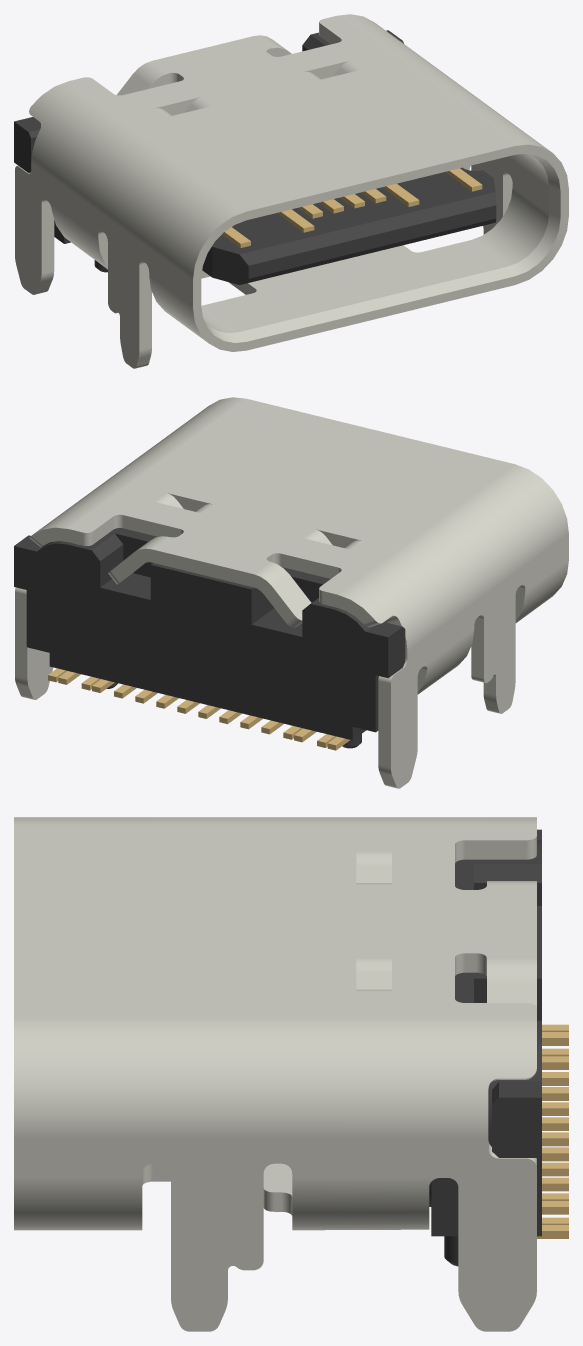
The model's file is Connector_USB_USB_C_Receptacle_GCT_USB4105-xx-A_16P_TopMnt_Horizontal.lo.glb.
3 renders of one model, top to bottom at view 1: azimuth 30°, elevation 25°; view 2: azimuth 150°, elevation 25°; view 3: azimuth 270°, elevation 25°, orthographic. The views are drawn at different scales.
Visible parts, largest first — view 1: USB_C_Receptacle_16P_TopMnt_Horizontal_GCT_USB4105-xx-A; view 2: USB_C_Receptacle_16P_TopMnt_Horizontal_GCT_USB4105-xx-A; view 3: USB_C_Receptacle_16P_TopMnt_Horizontal_GCT_USB4105-xx-A.
Part boxes in pixels (left/top/right/bottom): USB_C_Receptacle_16P_TopMnt_Horizontal_GCT_USB4105-xx-A: left=14, top=14, right=568, bottom=368; USB_C_Receptacle_16P_TopMnt_Horizontal_GCT_USB4105-xx-A: left=14, top=397, right=568, bottom=788; USB_C_Receptacle_16P_TopMnt_Horizontal_GCT_USB4105-xx-A: left=14, top=817, right=568, bottom=1331.
Size of the model in its own units: 0.00894 by 0.00426 by 0.00778.
